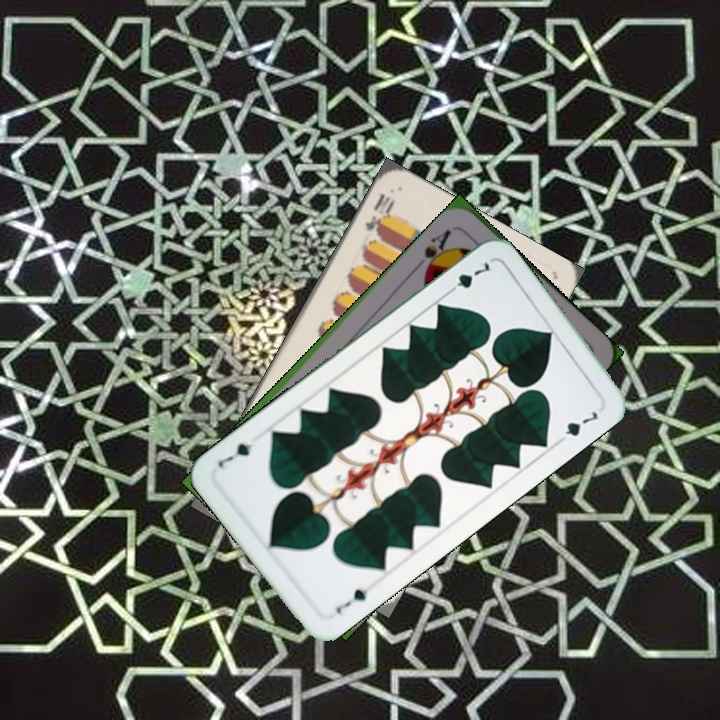E10: (360, 189, 398, 238)
G7: (442, 257, 492, 298), (332, 582, 376, 617)
SA: (412, 225, 455, 277)
